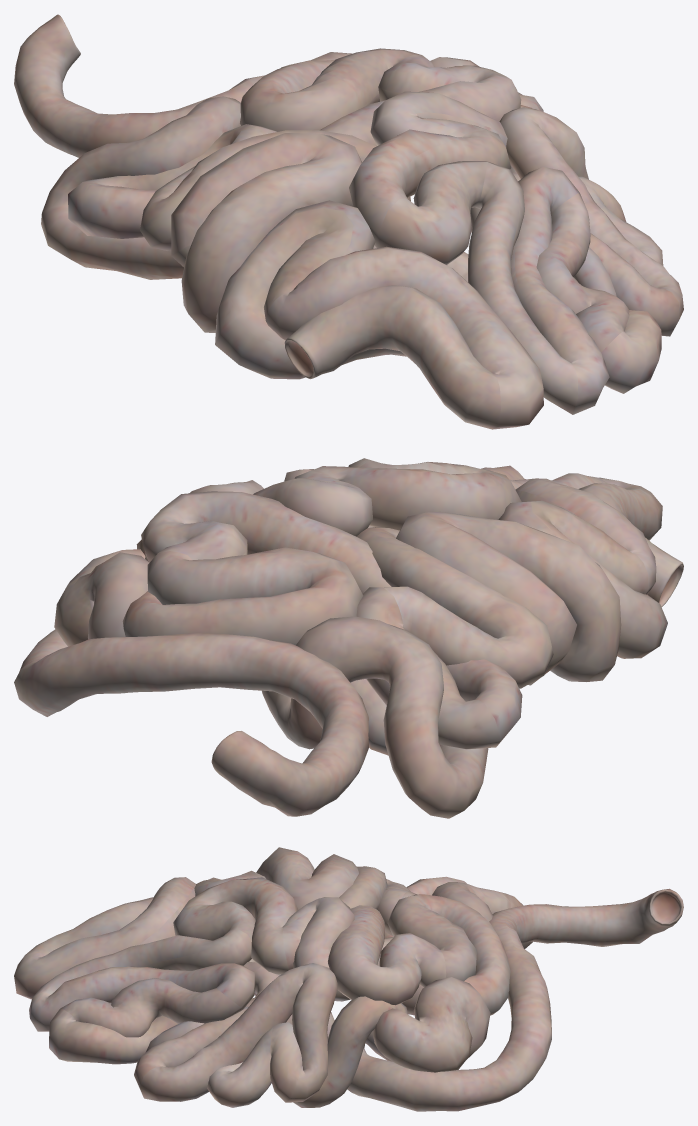
File: asset4.glb
3 renders of one model, top to bottom at view 1: azimuth 30°, elevation 25°; view 2: azimuth 150°, elevation 25°; view 3: azimuth 270°, elevation 25°, orthographic. The views are drawn at different scales.
Visible parts, largest first — view 1: Small_Inestines_pivot; view 2: Small_Inestines_pivot; view 3: Small_Inestines_pivot.
Part boxes in pixels (left/top/right/bottom): Small_Inestines_pivot: left=14, top=14, right=683, bottom=429; Small_Inestines_pivot: left=14, top=458, right=683, bottom=818; Small_Inestines_pivot: left=14, top=847, right=683, bottom=1111.
Bounding box in the file's own units: 0.2705 × 0.1118 × 0.4415.
Materials: 1 (1 with a texture image).
